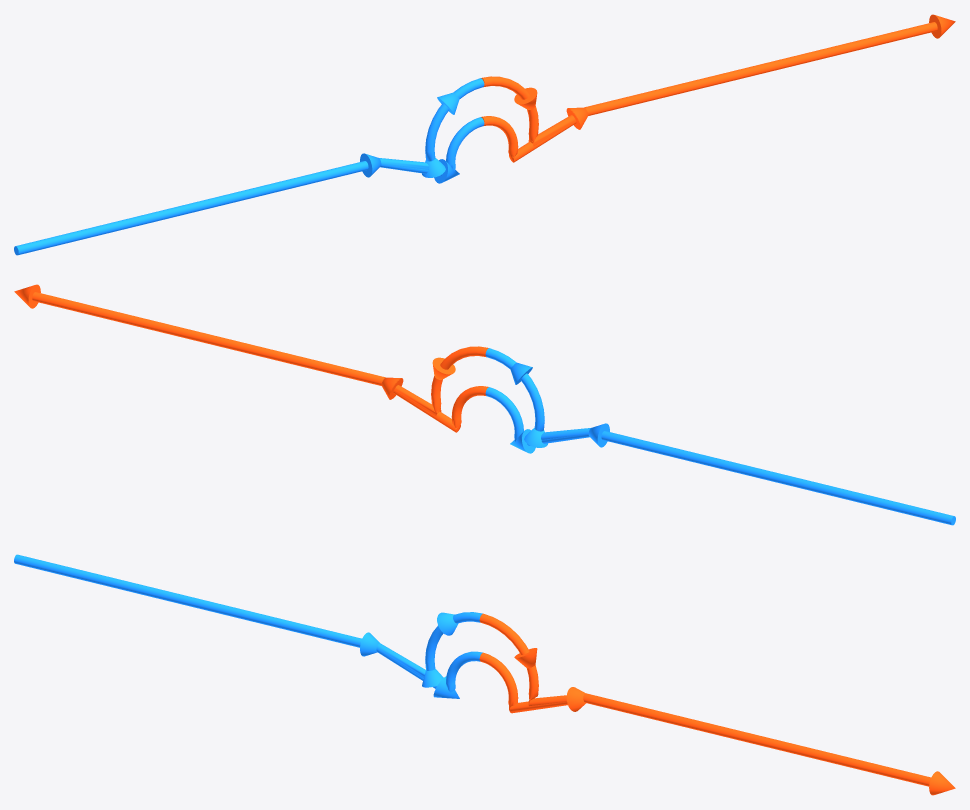
The model's file is internal_gear_pump_flow.glb.
3 views of the same model, one above another, from view 1: azimuth 30°, elevation 25°; view 2: azimuth 150°, elevation 25°; view 3: azimuth 330°, elevation 25° (orthographic).
Parts seen in each view (by area): view 1: flow_rotor_in, flow_rotor_out, flow_idler_in, flow_idler_out; view 2: flow_rotor_in, flow_rotor_out, flow_idler_in, flow_idler_out; view 3: flow_rotor_in, flow_rotor_out, flow_idler_out, flow_idler_in.
Boxes of the visible parts, x1=… form: flow_rotor_in: x1=16, y1=78, x2=484, y2=255; flow_rotor_out: x1=481, y1=22, x2=937, y2=146; flow_idler_in: x1=14, y1=117, x2=484, y2=255; flow_idler_out: x1=481, y1=14, x2=955, y2=162; flow_rotor_in: x1=485, y1=348, x2=953, y2=525; flow_rotor_out: x1=32, y1=292, x2=488, y2=416; flow_idler_in: x1=485, y1=387, x2=955, y2=525; flow_idler_out: x1=14, y1=284, x2=488, y2=432; flow_rotor_in: x1=14, y1=554, x2=482, y2=687; flow_rotor_out: x1=479, y1=613, x2=931, y2=786; flow_idler_out: x1=479, y1=652, x2=955, y2=795; flow_idler_in: x1=14, y1=555, x2=482, y2=698.
Bounding box in the file's own units: 0.908 × 0.0864 × 0.0208.
